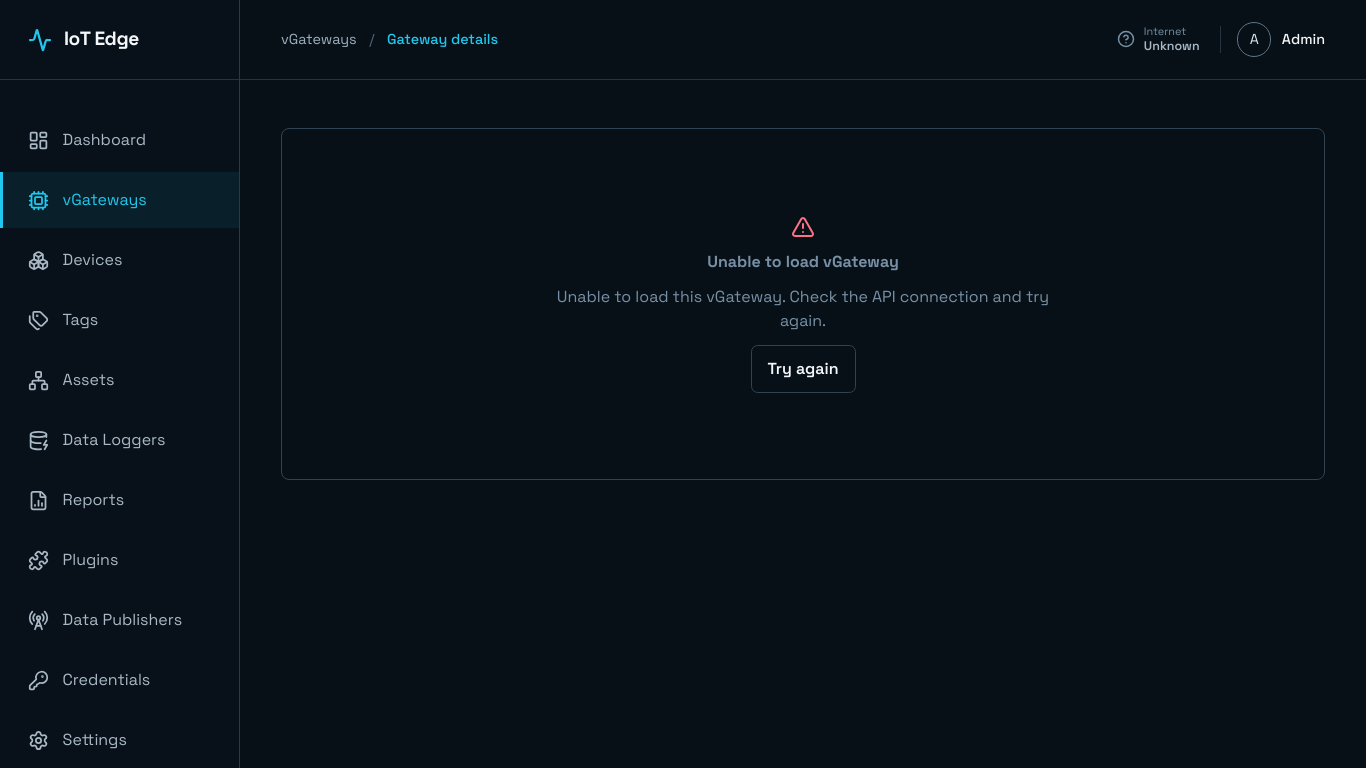
Test: VGatewayDetailPage › retries the complete load after a detail failure
Check: the message that starts with "Unable to load vGateway" shows "Unable to load this vGateway", box left=557, top=286, right=1049, bottom=331
Click the button "Try again" at (803, 369), box left=750, top=345, right=856, bottom=393
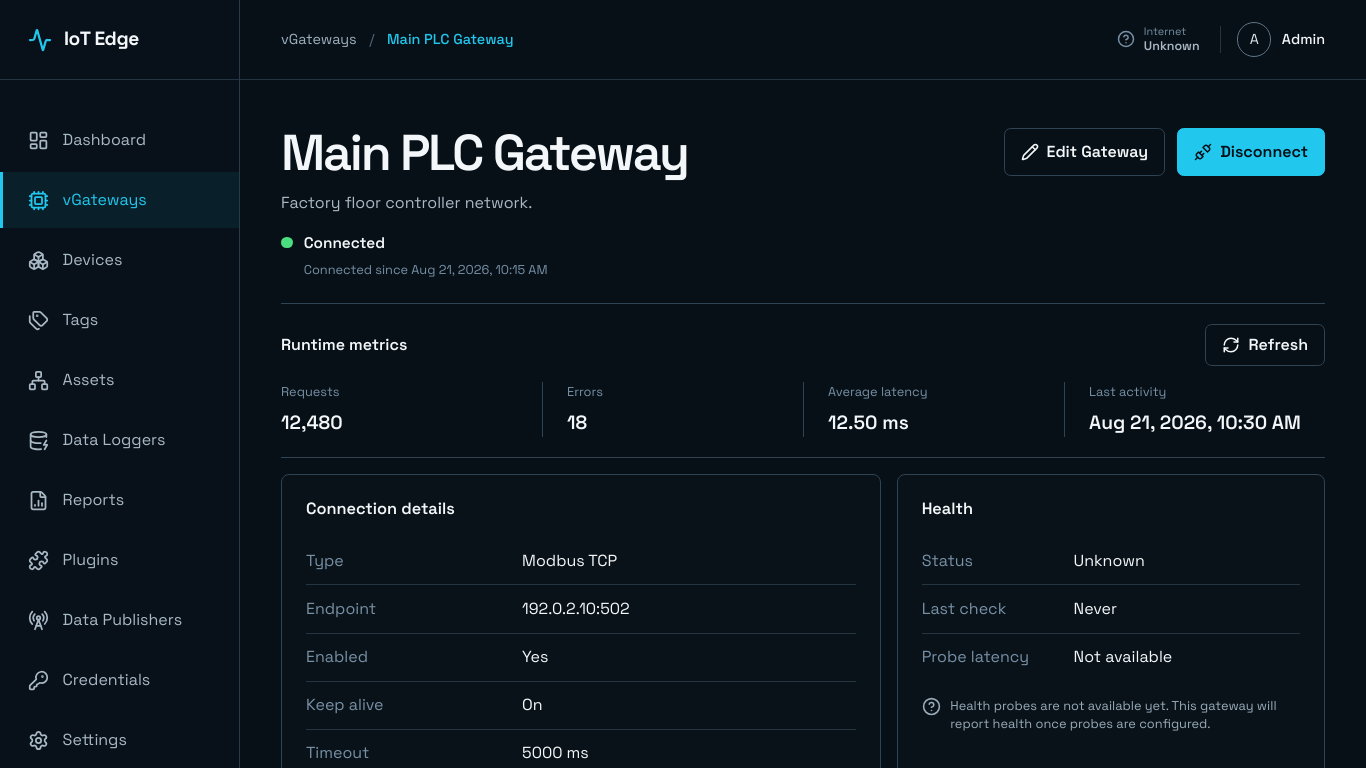
Check: the heading "Main PLC Gateway" is shown, box left=281, top=128, right=688, bottom=178
